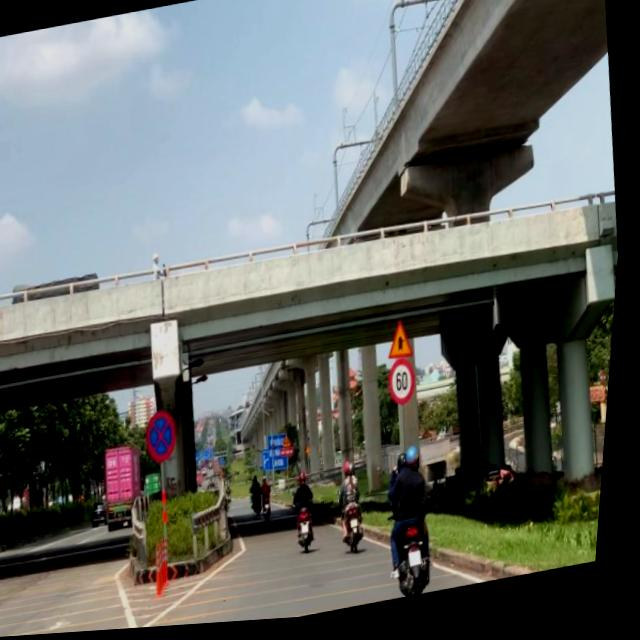Cam dung xe va do xe: (148, 409, 188, 468)
Di cham: (289, 437, 300, 453)
Giao nhau voi duong khong uu tien ben phai: (389, 322, 422, 367)
Toc do toi da cho phep: (390, 361, 425, 414)
